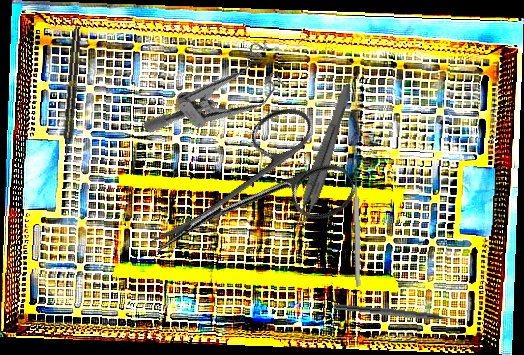Chopper: (332, 303, 465, 330)
Handpiece: (60, 26, 83, 158)
Iris Scissors: (124, 94, 363, 302)
Speculum: (141, 27, 298, 175)
Surgical Spoon: (352, 158, 362, 287)
Tissue Forceps: (290, 78, 355, 234)
